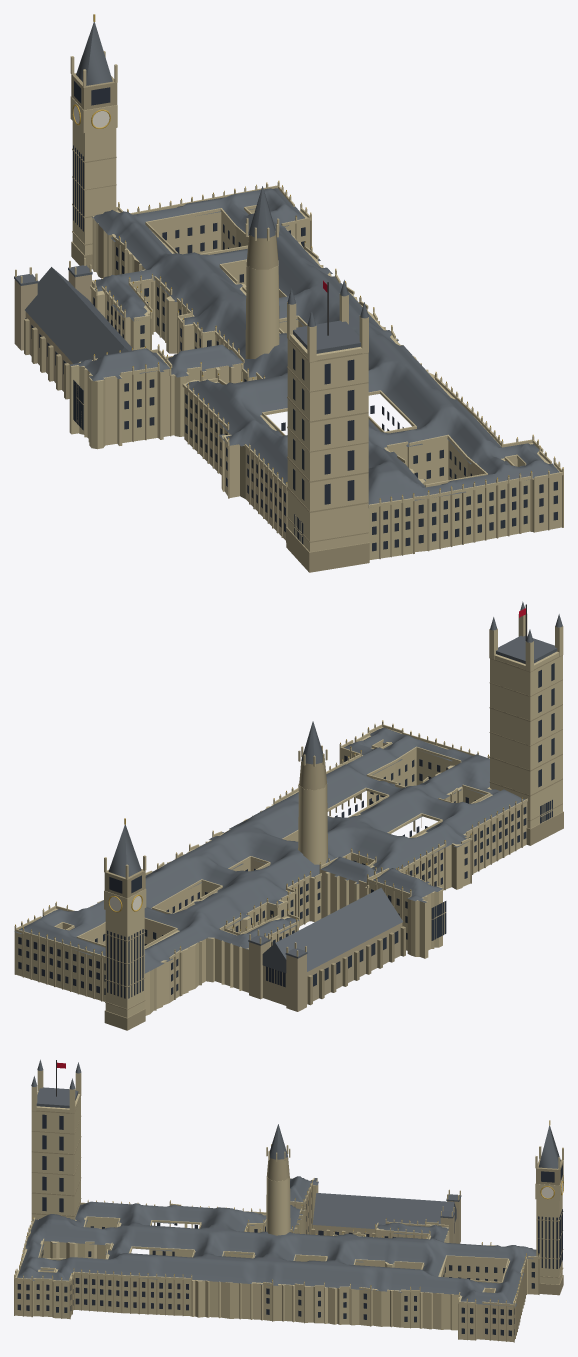
The model's file is westminster-site.glb.
3 renders of one model, top to bottom at view 1: azimuth 30°, elevation 25°; view 2: azimuth 150°, elevation 25°; view 3: azimuth 270°, elevation 25°, orthographic. The views are drawn at different scales.
Bounding box in the file's own units: 150 × 109 × 290.
